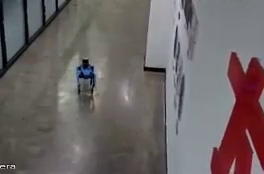robot dog: (78, 58, 100, 101)
